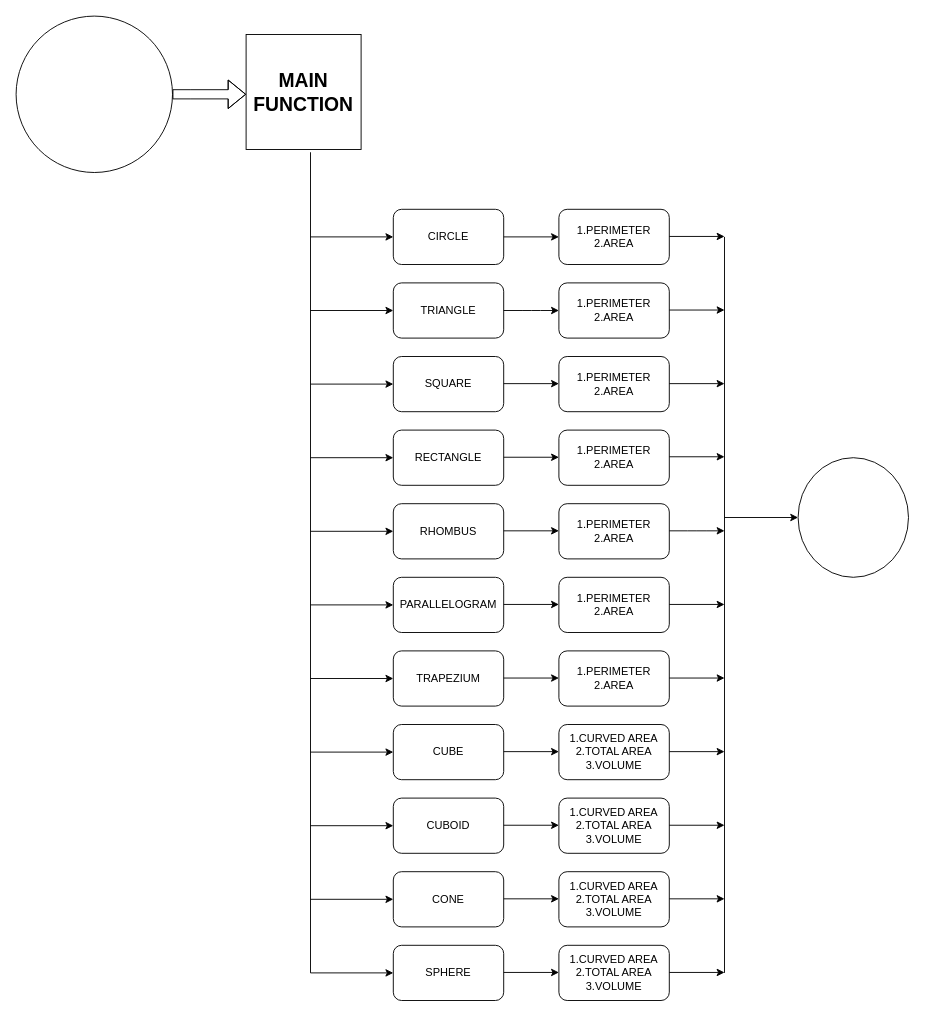
Some shapes in this 925 by 1017 pixel diagram are drawn without their labels. Here are the shapes that lost their labels. From the top down, the centre of each, then its label:
At point (93, 93): "HEADER FILES".
At point (852, 517): "OUTPUT".
